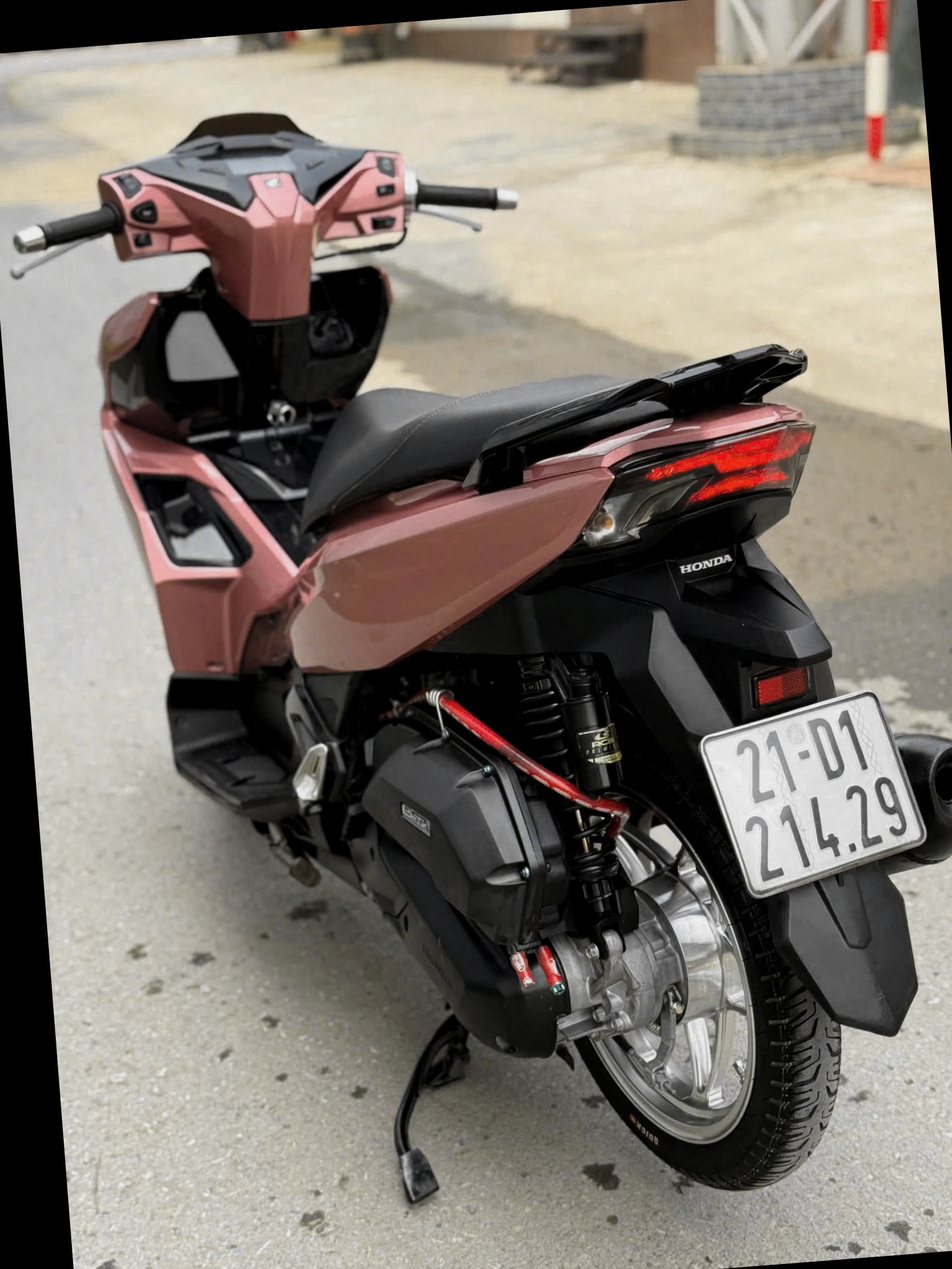Bien-so: (674, 702, 902, 905)
